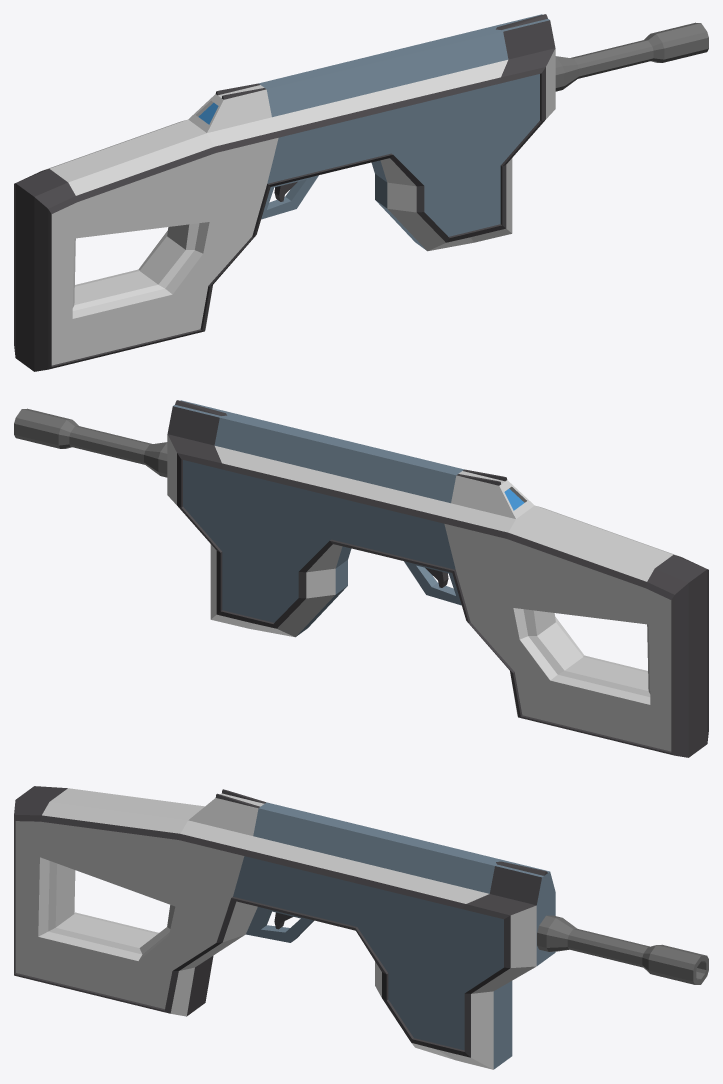
The model's file is FPS Rifle.fbx.
The picture shows the model from 3 angles, top to bottom: view 1: azimuth 30°, elevation 25°; view 2: azimuth 150°, elevation 25°; view 3: azimuth 330°, elevation 25°; orthographic projection.
Visible parts, largest first — view 1: Cube; view 2: Cube; view 3: Cube.
Boxes of the visible parts, bbox=[...] form: Cube: bbox=[14, 14, 708, 371]; Cube: bbox=[14, 400, 708, 757]; Cube: bbox=[14, 786, 708, 1069].
Bounding box in the file's own units: 2081 × 657 × 200.
